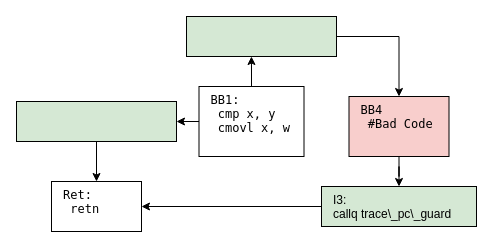
The diagram is 493 pixels wide and 248 high, and some of its shapes have lost their labels. Each missing label, with the centre of its shape:
"I1: callq trace\_pc\_guard" goes at (261,36).
"I2: callq trace\_pc\_guard" goes at (96,121).
